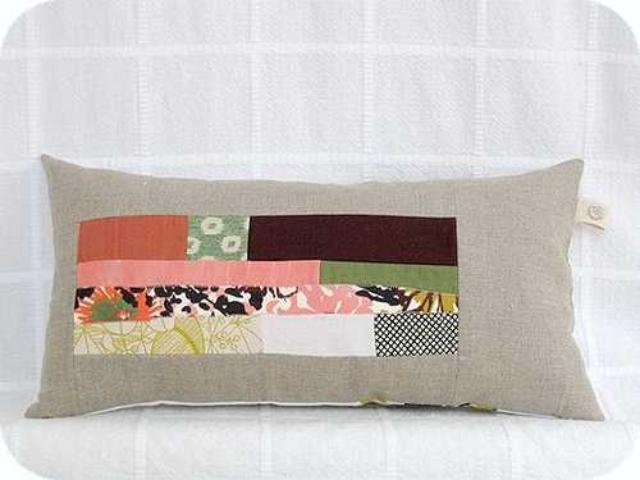pillow: (23, 151, 605, 421)
